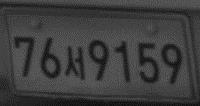1: (112, 38, 131, 85)
5: (136, 40, 160, 83)
6: (39, 35, 62, 79)
7: (12, 34, 35, 78)
9: (160, 42, 184, 85), (87, 38, 109, 81)
서: (63, 44, 86, 83)
